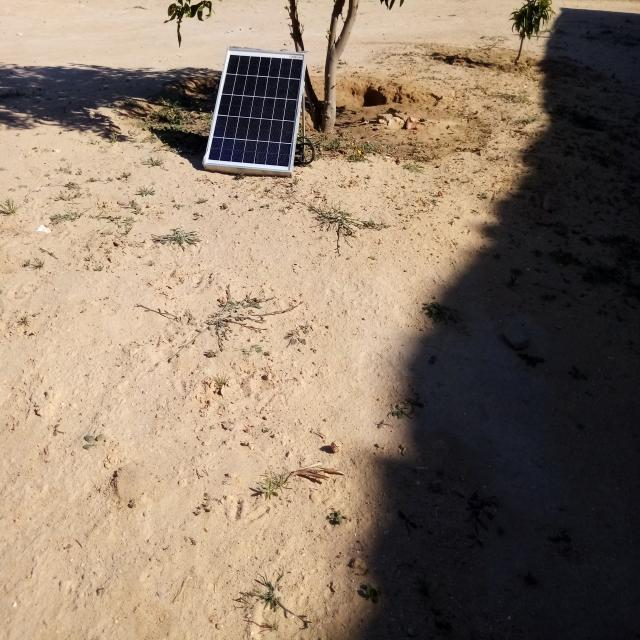Normal Solar Panel: (204, 47, 306, 173)
